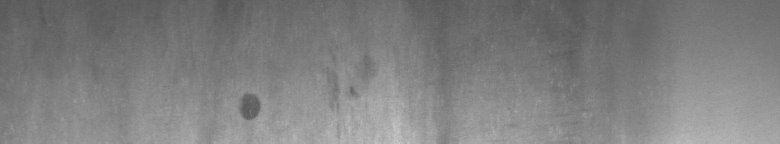fi: (235, 88, 267, 125)
